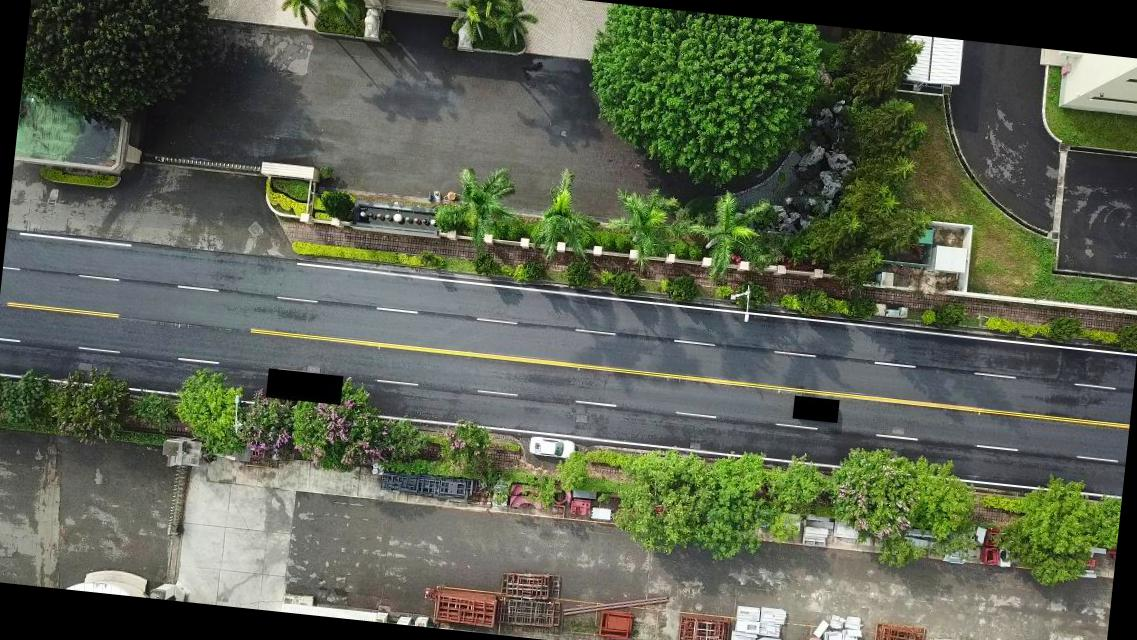vehicle: (526, 434, 576, 462)
